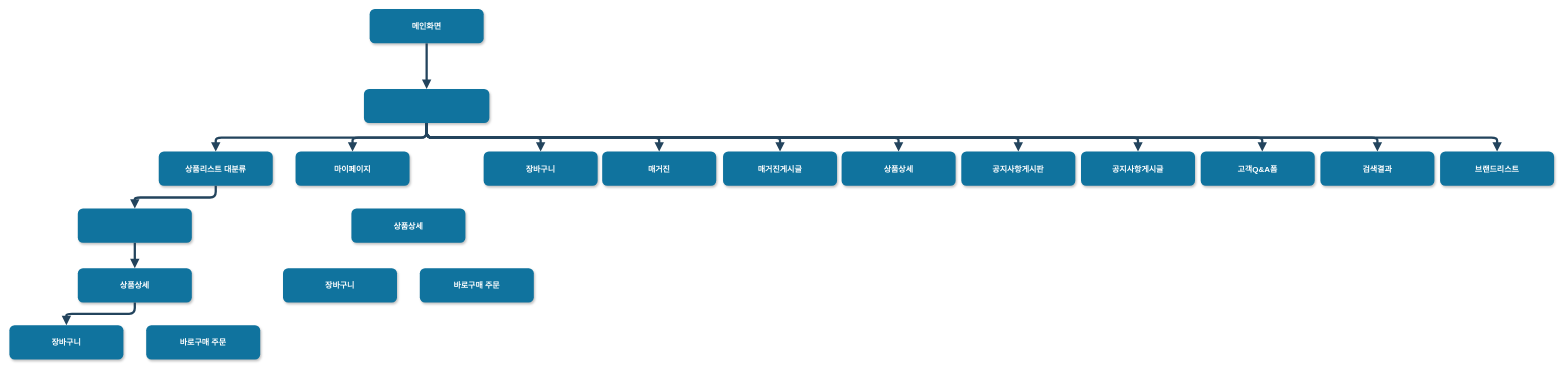
The diagram is 1564 pixels wide and 369 high, and some of its shapes have lost their labels. The shapes that lost their labels are listed below. From the top down, each one's centre as x and y in pixels, then its label:
At point (426, 106): "로그인".
At point (135, 226): "상품리스트 소분류".
